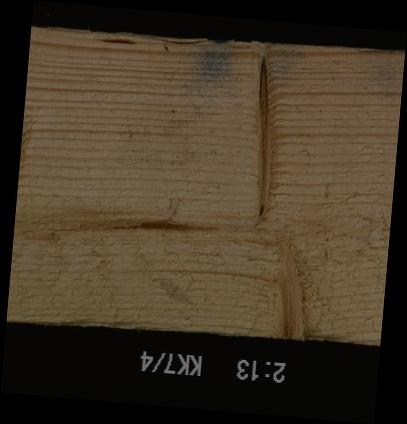split: (15, 221, 91, 245)
